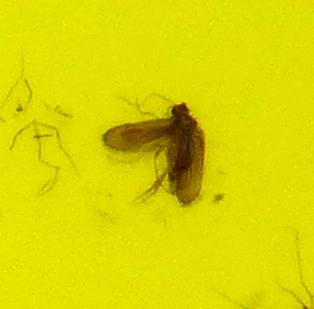Trichoptera: (100, 100, 214, 209)
